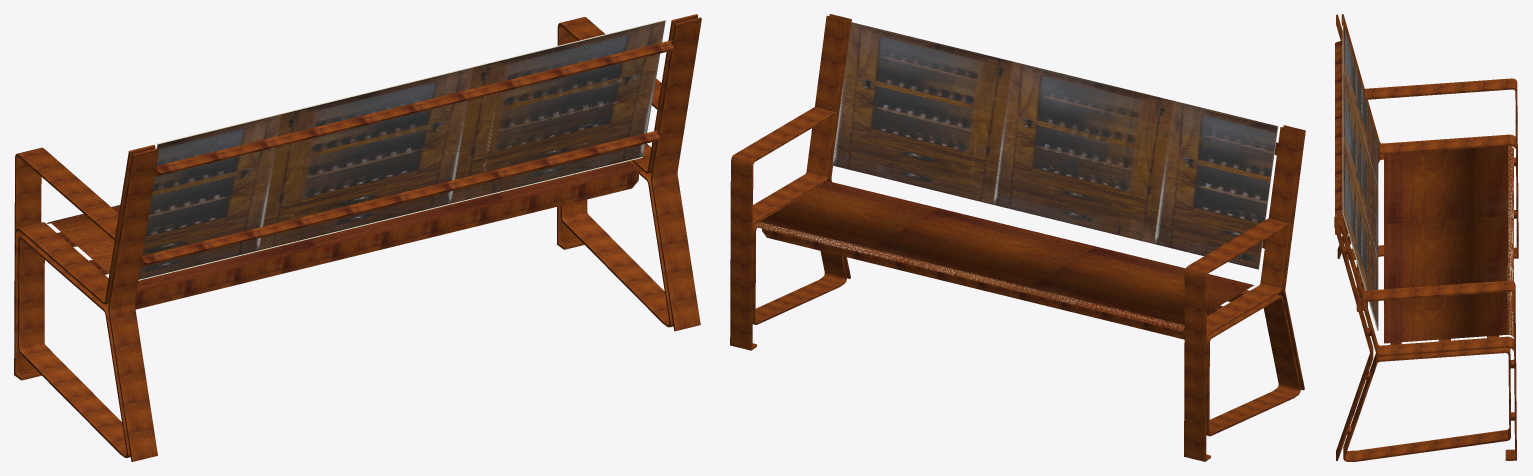
The picture shows the model from 3 angles, left to right: view 1: azimuth 30°, elevation 25°; view 2: azimuth 150°, elevation 25°; view 3: azimuth 270°, elevation 25°; orthographic projection. The views are drawn at different scales.
Visible parts, largest first — view 1: mesh21_mesh21-geometry, mesh13_mesh13-geometry, mesh17_mesh17-geometry, mesh9_mesh9-geometry, mesh15_mesh15-geometry, mesh19_mesh19-geometry, mesh7_mesh7-geometry, mesh5_mesh5-geometry; view 2: mesh21_mesh21-geometry, mesh19_mesh19-geometry, mesh7_mesh7-geometry, mesh5_mesh5-geometry, mesh9_mesh9-geometry, mesh15_mesh15-geometry, mesh13_mesh13-geometry; view 3: mesh19_mesh19-geometry, mesh21_mesh21-geometry, mesh7_mesh7-geometry, mesh5_mesh5-geometry, mesh9_mesh9-geometry, mesh17_mesh17-geometry, mesh13_mesh13-geometry, mesh3_mesh3-geometry.
Boxes of the visible parts, x1=… form: mesh21_mesh21-geometry: x1=138, y1=20, x2=665, y2=280; mesh13_mesh13-geometry: x1=108, y1=17, x2=701, y2=461; mesh17_mesh17-geometry: x1=140, y1=40, x2=673, y2=266; mesh9_mesh9-geometry: x1=18, y1=160, x2=673, y2=457; mesh15_mesh15-geometry: x1=57, y1=163, x2=642, y2=309; mesh19_mesh19-geometry: x1=47, y1=161, x2=638, y2=292; mesh7_mesh7-geometry: x1=14, y1=17, x2=661, y2=375; mesh5_mesh5-geometry: x1=16, y1=14, x2=697, y2=304; mesh21_mesh21-geometry: x1=832, y1=22, x2=1278, y2=269; mesh19_mesh19-geometry: x1=756, y1=181, x2=1253, y2=331; mesh7_mesh7-geometry: x1=730, y1=107, x2=1289, y2=461; mesh5_mesh5-geometry: x1=753, y1=15, x2=1302, y2=338; mesh9_mesh9-geometry: x1=752, y1=183, x2=1300, y2=436; mesh15_mesh15-geometry: x1=758, y1=185, x2=1249, y2=339; mesh13_mesh13-geometry: x1=823, y1=14, x2=1305, y2=390; mesh19_mesh19-geometry: x1=1384, y1=145, x2=1513, y2=343; mesh21_mesh21-geometry: x1=1342, y1=24, x2=1378, y2=330; mesh7_mesh7-geometry: x1=1363, y1=78, x2=1518, y2=460; mesh5_mesh5-geometry: x1=1340, y1=14, x2=1515, y2=356; mesh9_mesh9-geometry: x1=1343, y1=145, x2=1512, y2=461; mesh17_mesh17-geometry: x1=1335, y1=40, x2=1367, y2=311; mesh13_mesh13-geometry: x1=1334, y1=14, x2=1373, y2=460; mesh3_mesh3-geometry: x1=1343, y1=157, x2=1516, y2=434.
Bounding box in the file's own units: 0.8419 × 0.441 × 0.3109.
